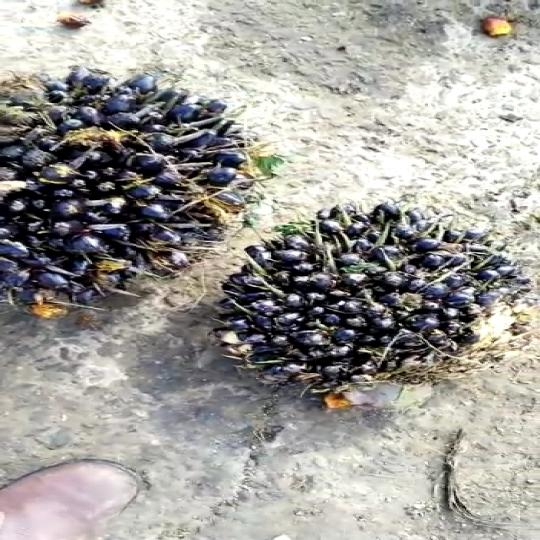mentah: (0, 60, 275, 320), (203, 187, 504, 404)
